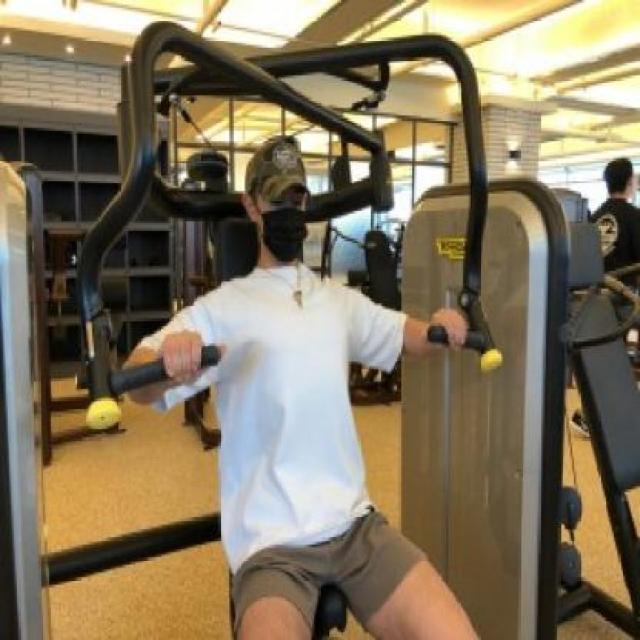Chest Press machine: (3, 0, 572, 640)
